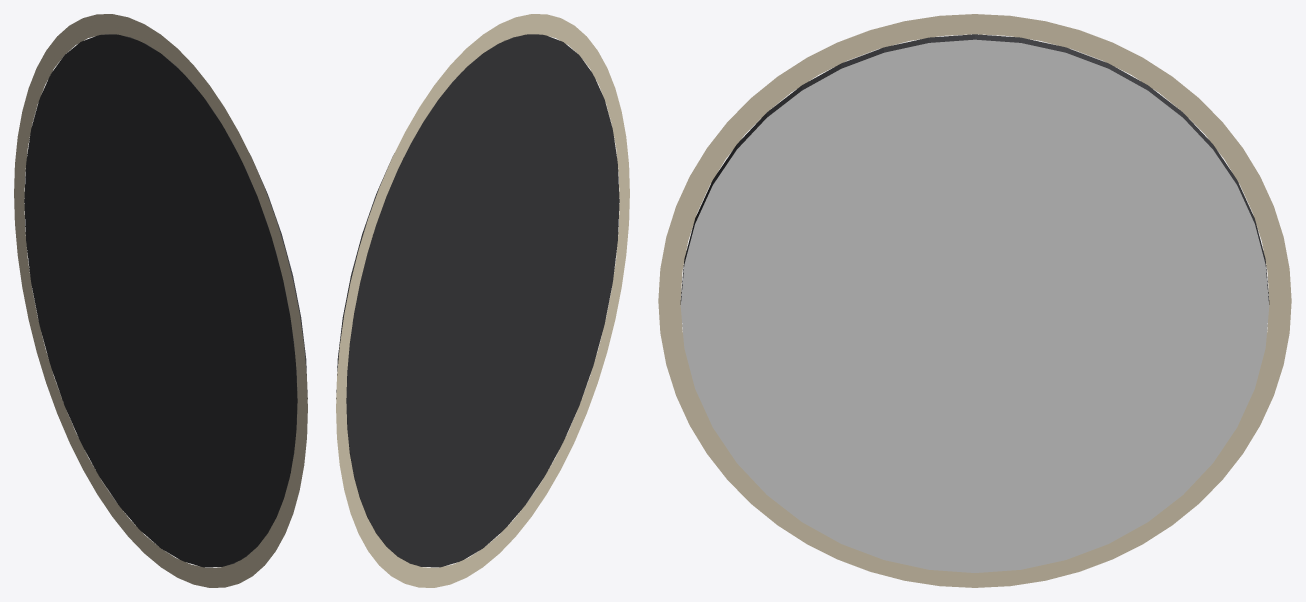
Rendered from SM_Mirror_Halo.fbx.
3 views of the same model, side by side, from view 1: azimuth 30°, elevation 25°; view 2: azimuth 150°, elevation 25°; view 3: azimuth 270°, elevation 25° (orthographic). The views are drawn at different scales.
Visible parts, largest first — view 1: SM_Mirror_Halo; view 2: SM_Mirror_Halo; view 3: SM_Mirror_Halo.
Part boxes in pixels (left/top/right/bottom): SM_Mirror_Halo: left=14, top=14, right=307, bottom=587; SM_Mirror_Halo: left=336, top=14, right=629, bottom=587; SM_Mirror_Halo: left=658, top=14, right=1291, bottom=587.
Bounding box in the file's own units: 2 × 99 × 99.
